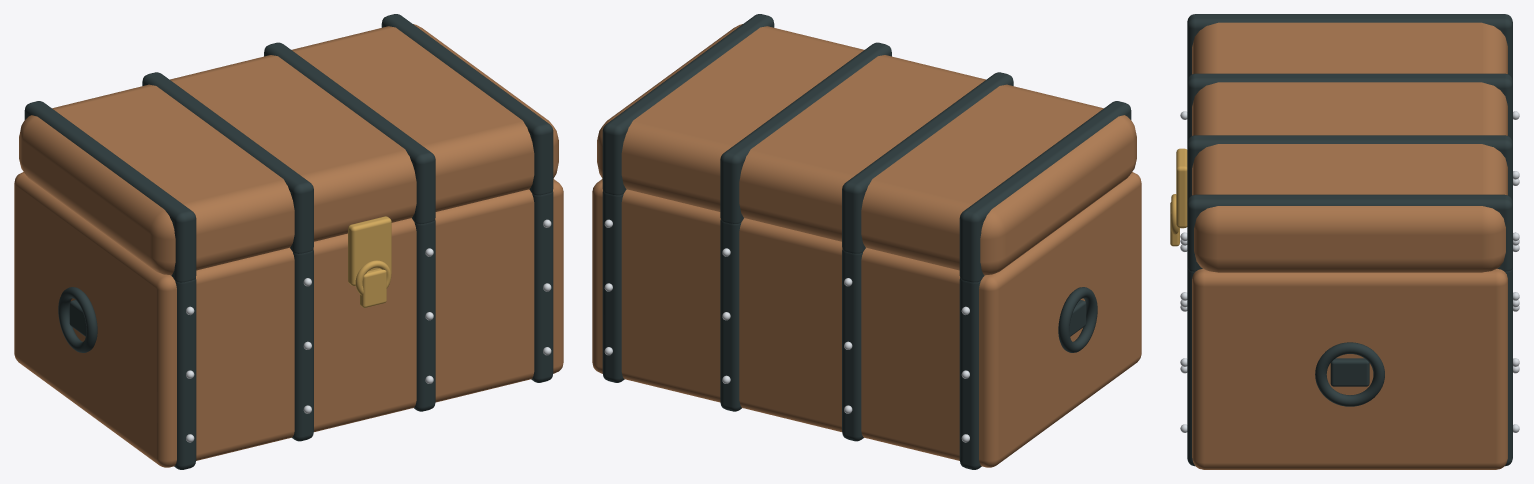
Rendered from chest.glb.
The picture shows the model from 3 angles, left to right: view 1: azimuth 30°, elevation 25°; view 2: azimuth 150°, elevation 25°; view 3: azimuth 270°, elevation 25°; orthographic projection. The views are drawn at different scales.
Visible parts, largest first — view 1: chest; view 2: chest; view 3: chest.
Part boxes in pixels (x1,y1,x2,y2): chest: (14,14,563,469); chest: (592,14,1141,469); chest: (1170,14,1519,469).
Bounding box in the file's own units: 1.06 × 0.605 × 0.719.
